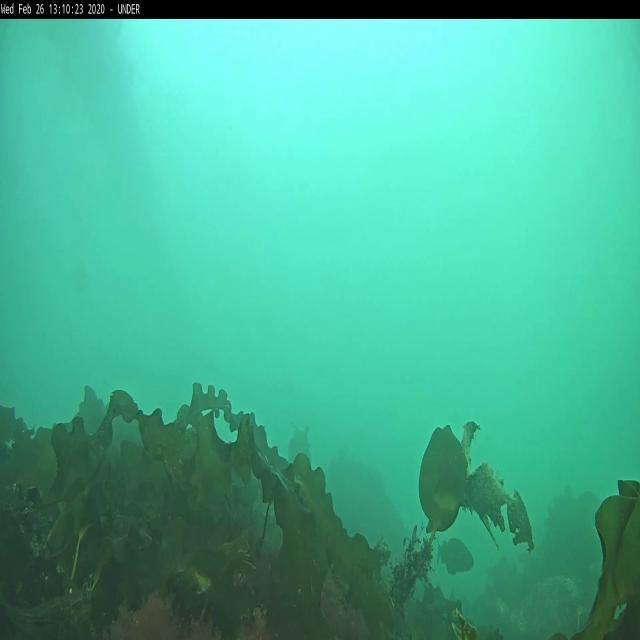fish: (436, 537, 474, 576)
